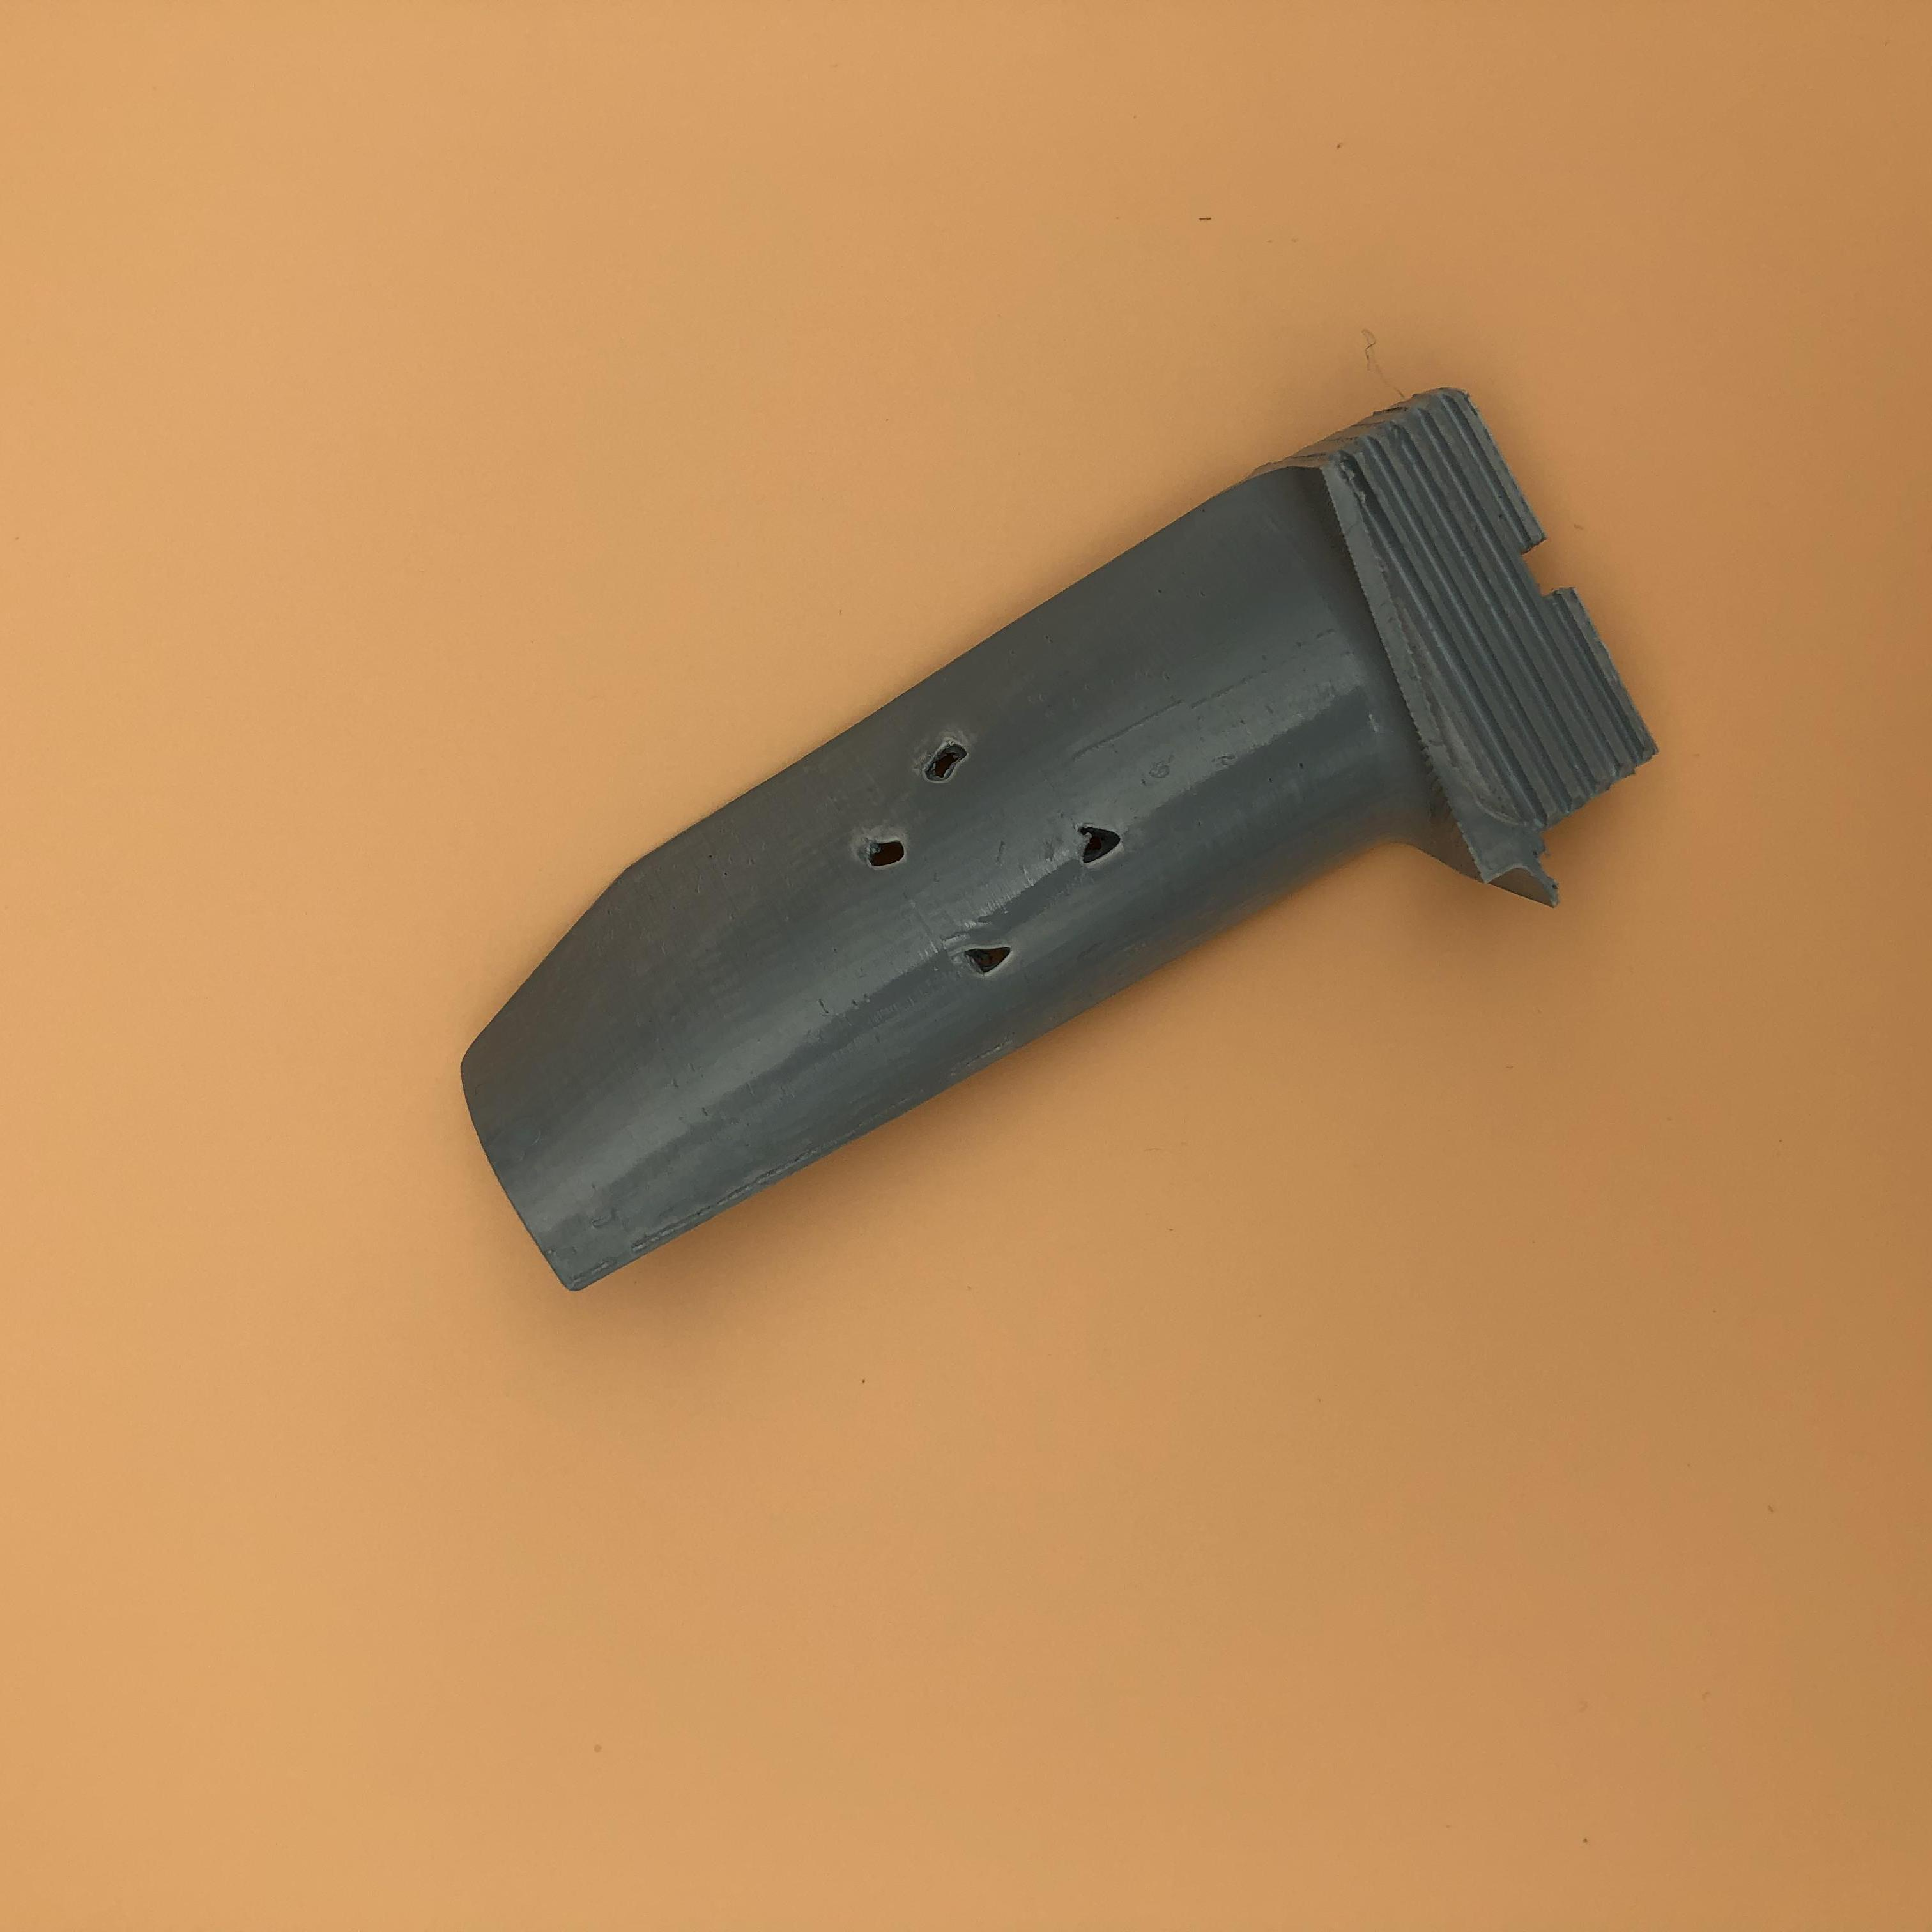breakdown: (885, 741, 1132, 977)
